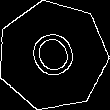O_SE: (22, 24, 83, 87)
